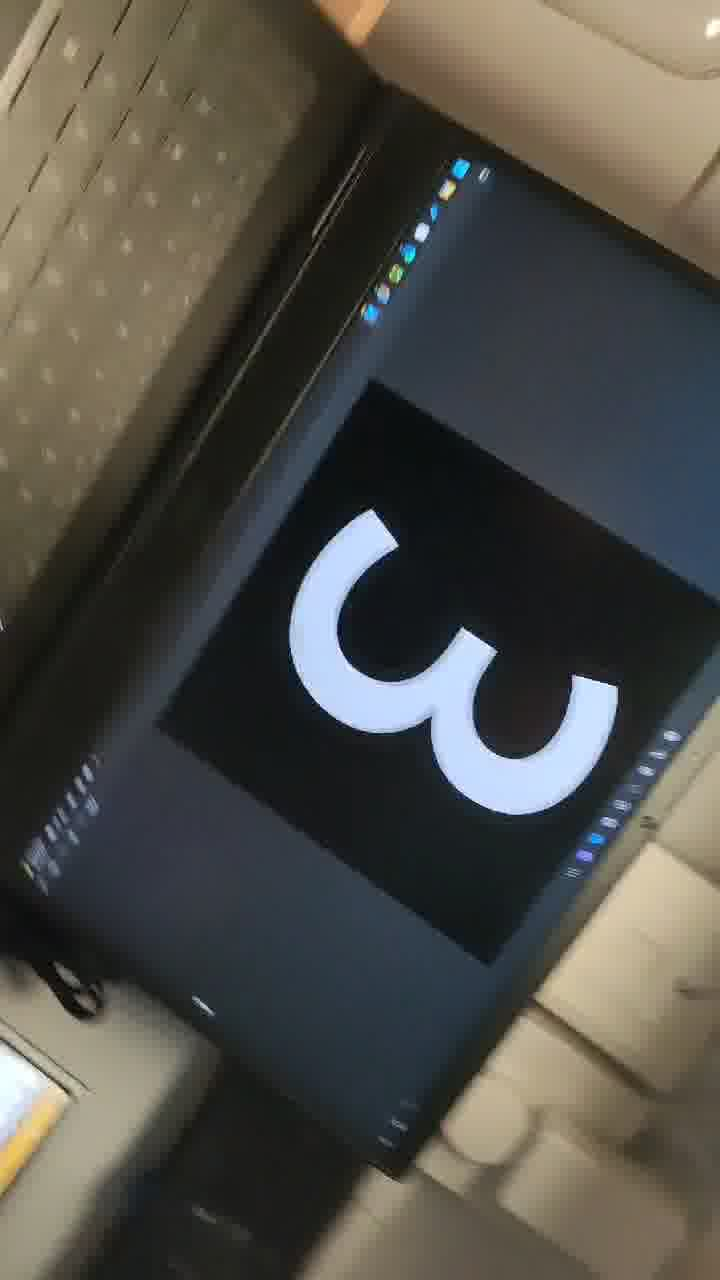three: (233, 423, 631, 867)
